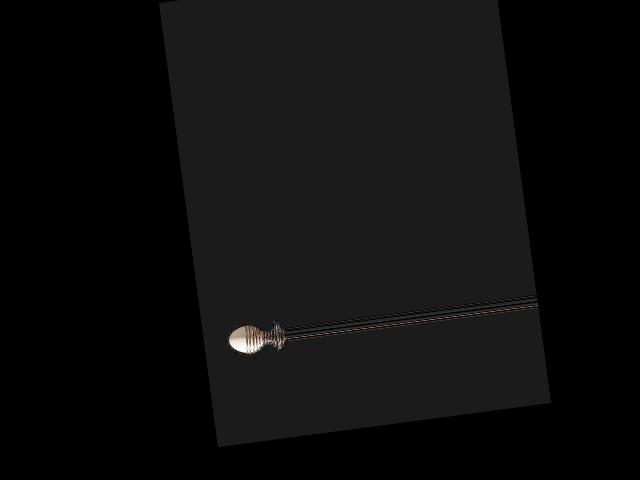egg: (227, 324, 264, 355)
